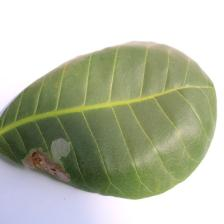leaf miner: (0, 40, 217, 200)
